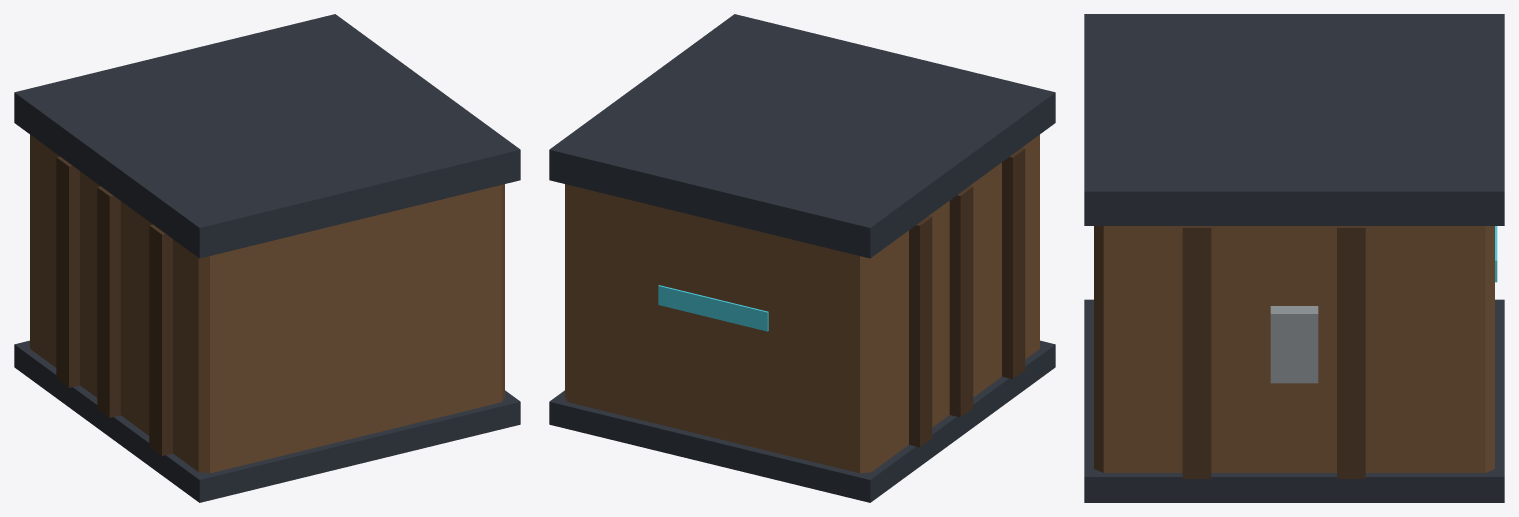
File: schematic_crate.obj
The picture shows the model from 3 angles, left to right: view 1: azimuth 30°, elevation 25°; view 2: azimuth 150°, elevation 25°; view 3: azimuth 270°, elevation 25°; orthographic projection. The views are drawn at different scales.
Parts seen in each view (by area): view 1: body; view 2: body; view 3: body.
Boxes of the visible parts, x1,y1,x2,y2 form: body: (14,14,520,502); body: (549,14,1055,502); body: (1084,14,1504,502).
Bounding box in the file's own units: 0.94 × 0.72 × 0.88.
